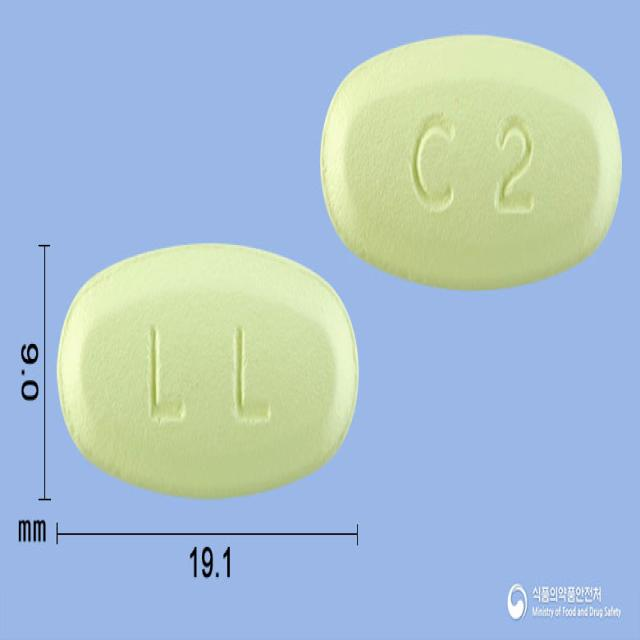Clratomin: (58, 241, 362, 500), (322, 28, 624, 286)
